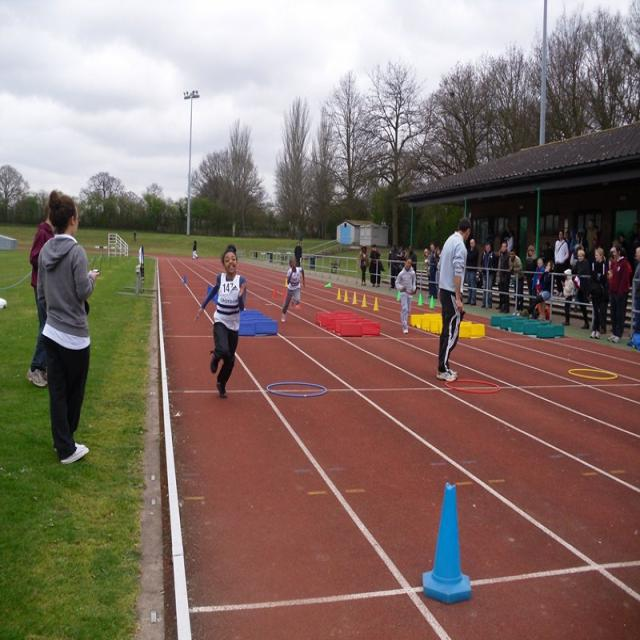body: (34, 187, 102, 470), (192, 240, 250, 402), (24, 190, 66, 388), (433, 214, 472, 383), (606, 242, 632, 345), (518, 259, 555, 322), (275, 252, 305, 324), (588, 247, 609, 341), (394, 256, 417, 335), (572, 248, 593, 330), (506, 247, 525, 317), (479, 241, 498, 310), (462, 238, 480, 308), (552, 228, 569, 299), (570, 242, 585, 314), (498, 239, 512, 315), (532, 256, 546, 323), (630, 244, 639, 346), (368, 242, 387, 289), (560, 267, 575, 326), (524, 243, 538, 301), (428, 241, 438, 299), (357, 244, 370, 287), (387, 242, 400, 285), (585, 218, 599, 252), (434, 246, 442, 301), (404, 244, 418, 274), (422, 246, 430, 298), (592, 228, 601, 273), (626, 222, 639, 247), (293, 240, 303, 268), (620, 232, 630, 259), (397, 247, 406, 276), (542, 239, 554, 260), (506, 229, 514, 252), (606, 254, 613, 277), (562, 230, 573, 243), (192, 239, 198, 261), (575, 230, 582, 244), (609, 238, 620, 246), (107, 230, 113, 244), (502, 226, 509, 238), (132, 228, 137, 241), (156, 223, 161, 236), (394, 251, 401, 259), (298, 234, 304, 239)
